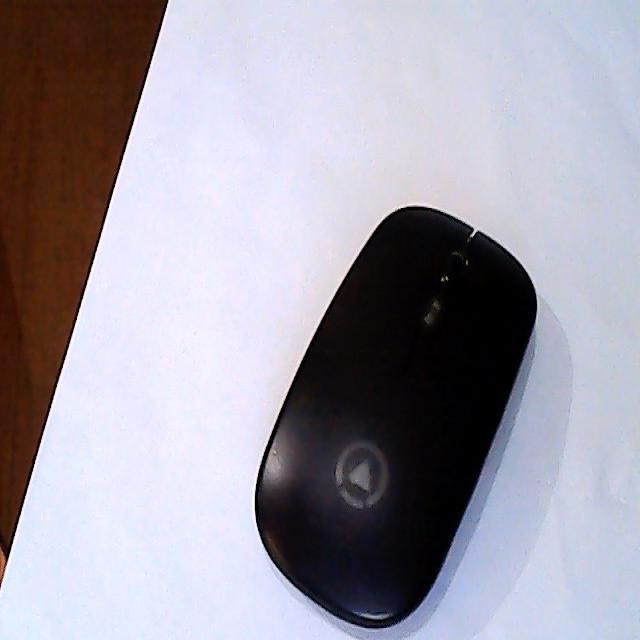mouse: (190, 235, 562, 635)
